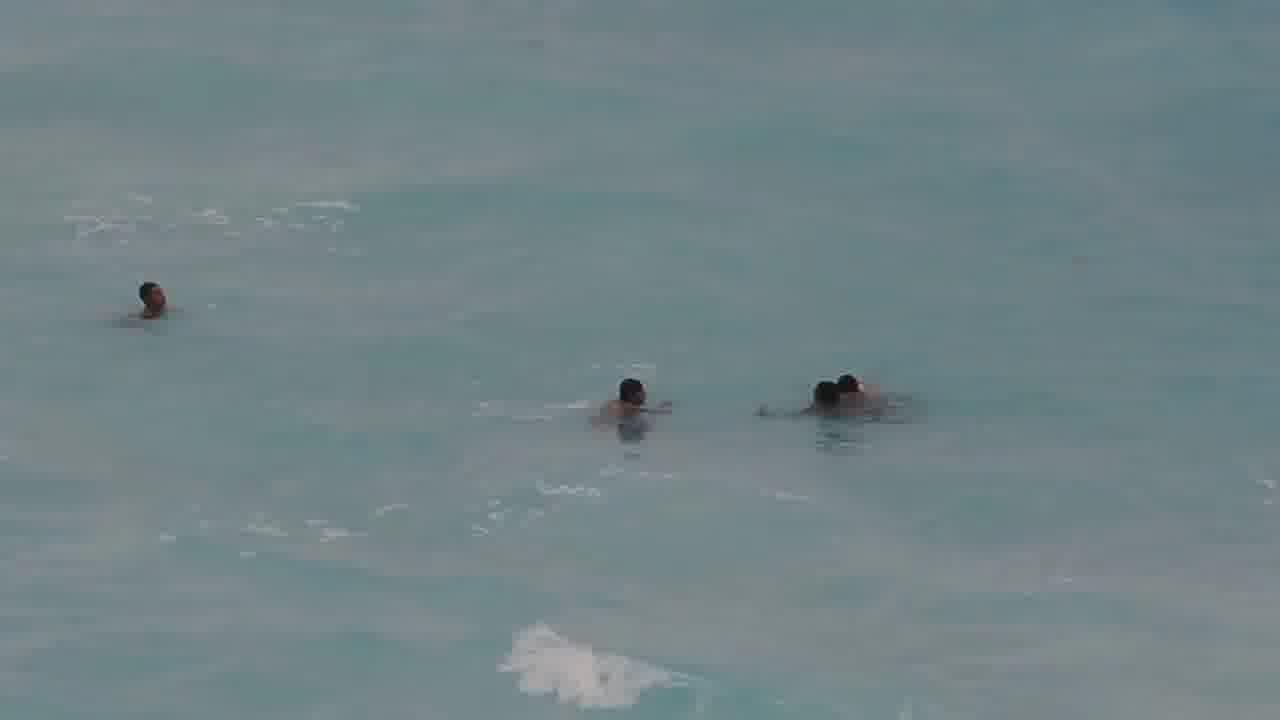human: (807, 359, 880, 426), (123, 264, 187, 333), (607, 362, 670, 427), (835, 352, 904, 407)
